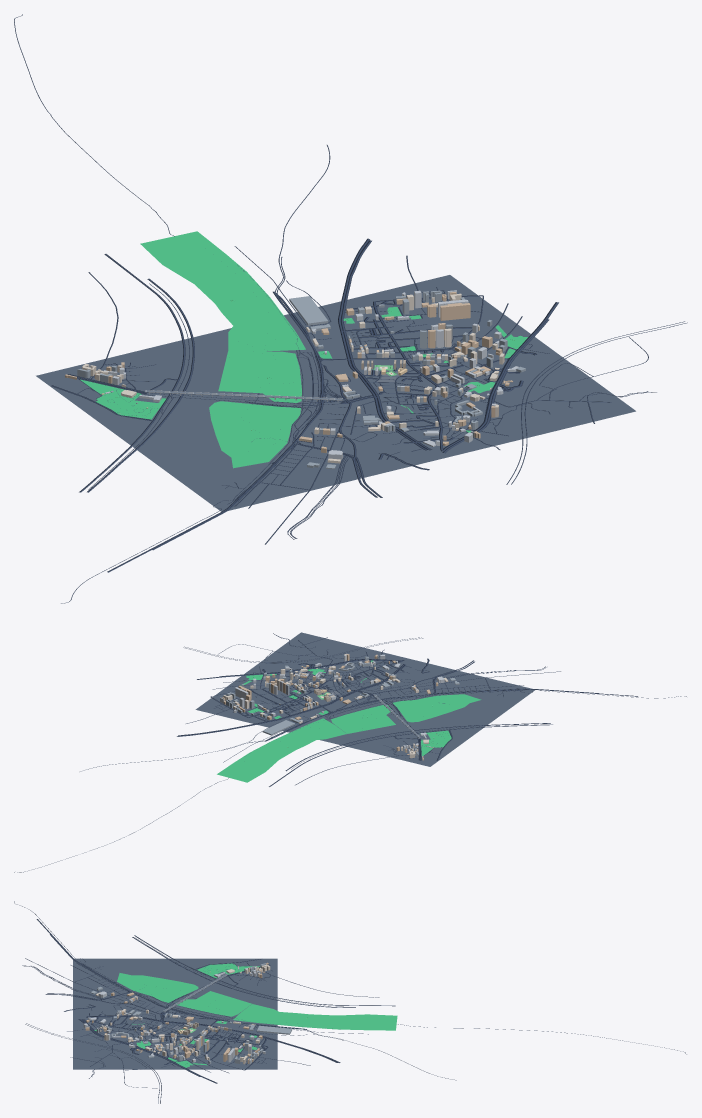
The model's file is tucheng_town.glb.
3 views of the same model, one above another, from view 1: azimuth 30°, elevation 25°; view 2: azimuth 150°, elevation 25°; view 3: azimuth 270°, elevation 25° (orthographic). The views are drawn at different scales.
Parts seen in each view (by area): view 1: Mesh_0, Mesh_39, Mesh_11, Mesh_18, Mesh_4; view 2: Mesh_0, Mesh_39, Mesh_11, Mesh_18, Mesh_4; view 3: Mesh_0, Mesh_39, Mesh_11, Mesh_18, Mesh_4.
Part boxes in pixels (box(x1,y1,x2,y2)): Mesh_0: box(36, 275, 635, 511); Mesh_39: box(140, 231, 305, 351); Mesh_11: box(209, 401, 300, 468); Mesh_18: box(218, 351, 301, 402); Mesh_4: box(80, 379, 166, 419); Mesh_0: box(195, 632, 534, 766); Mesh_39: box(217, 718, 346, 782); Mesh_11: box(393, 694, 481, 722); Mesh_18: box(331, 705, 395, 733); Mesh_4: box(420, 730, 451, 756); Mesh_0: box(73, 958, 277, 1069); Mesh_39: box(233, 1004, 397, 1030); Mesh_11: box(117, 973, 198, 1002); Mesh_18: box(175, 991, 251, 1016); Mesh_4: box(197, 963, 260, 978).
Bounding box in the file's own units: 4574 × 96.65 × 6419.
